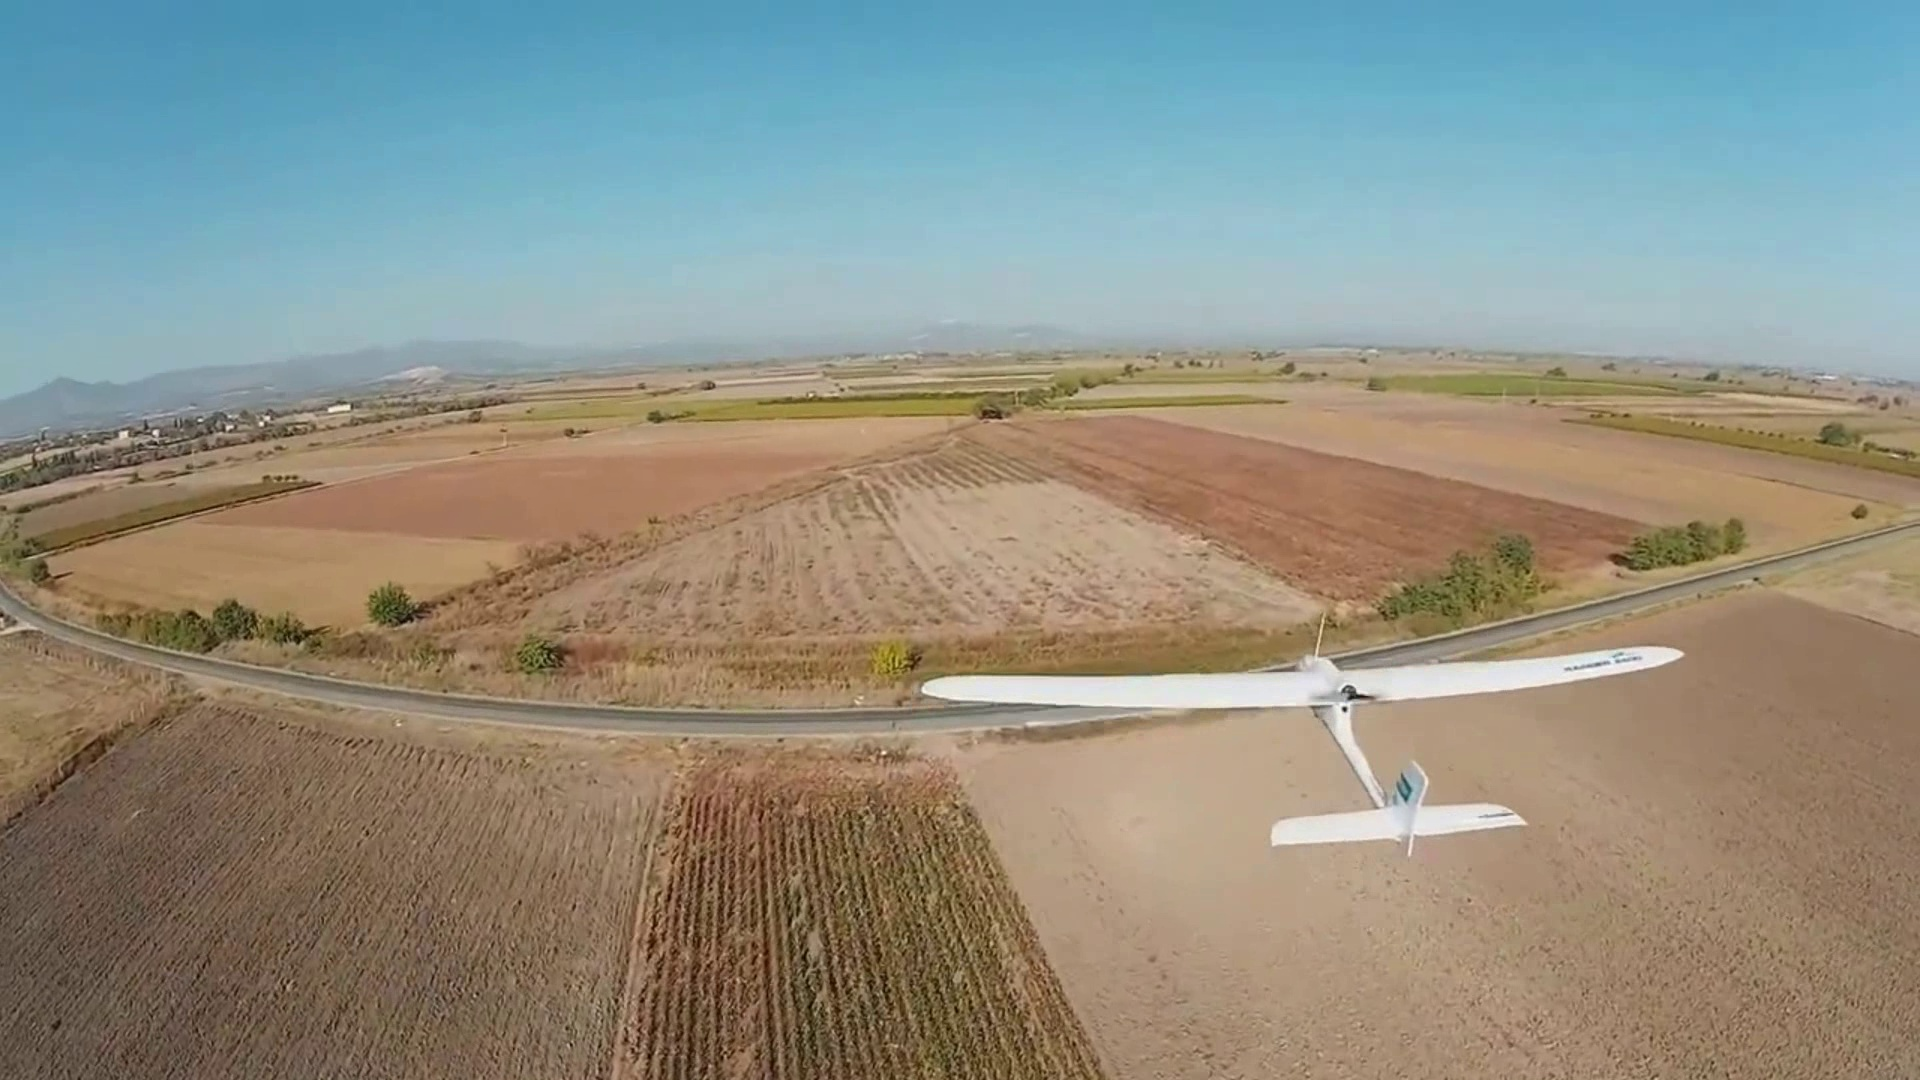airplane: (906, 621, 1687, 829)
